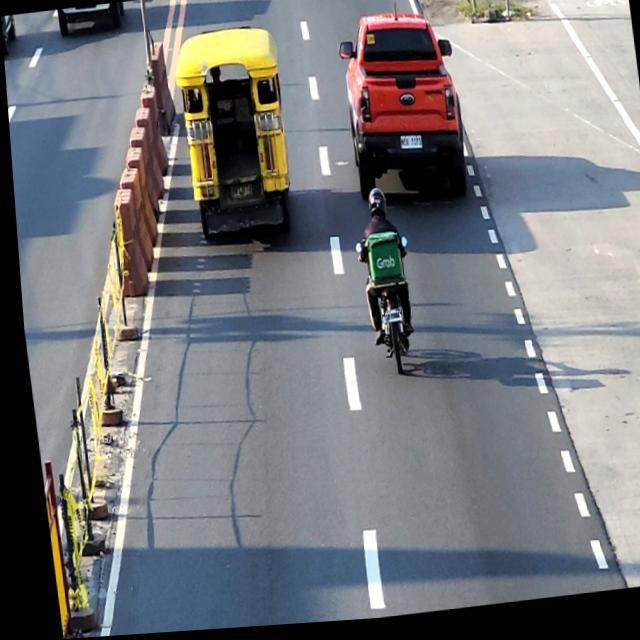Car: (334, 11, 470, 216)
Jeep: (169, 26, 295, 250)
License-Plate: (397, 139, 420, 156), (227, 187, 250, 202), (378, 314, 396, 328)
Motorcycle: (350, 240, 417, 383)
